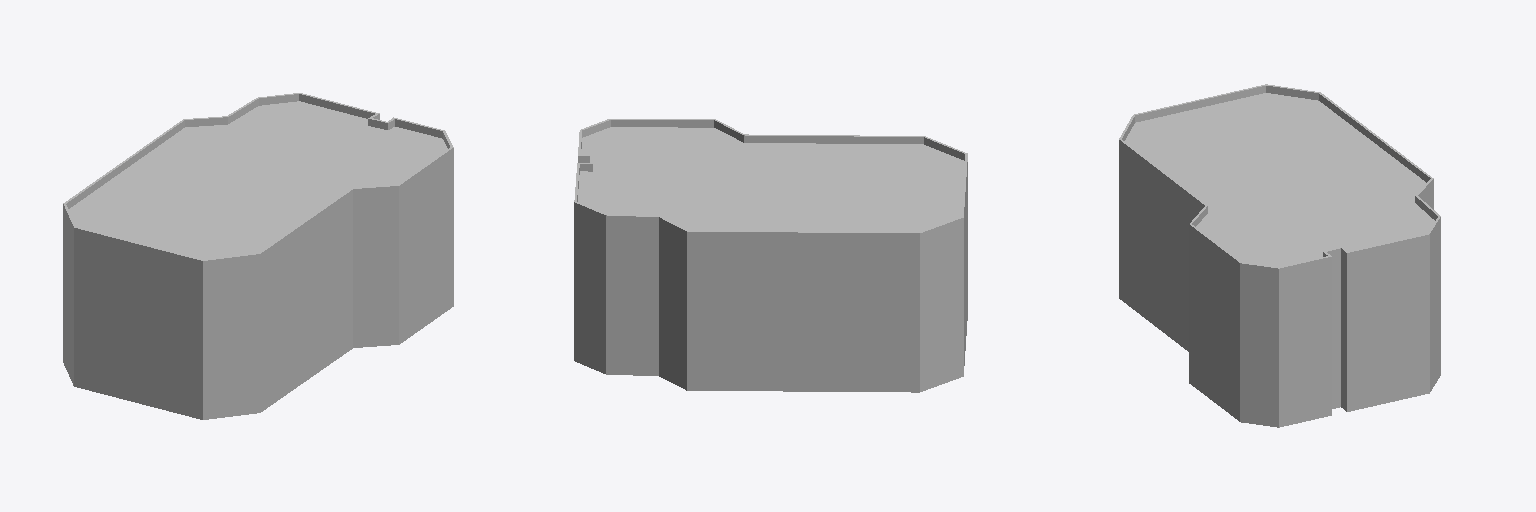
Rendered from hospital_6.obj.
3 renders of one model, left to right at view 1: azimuth 30°, elevation 25°; view 2: azimuth 150°, elevation 25°; view 3: azimuth 270°, elevation 25°, orthographic.
Parts seen in each view (by area): view 1: object_1; view 2: object_1; view 3: object_1.
Boxes of the visible parts, x1,y1,x2,y2 form: object_1: [63, 93, 453, 419]; object_1: [574, 119, 967, 392]; object_1: [1119, 84, 1440, 427].
Size of the model in its own units: 162 by 65 by 119.